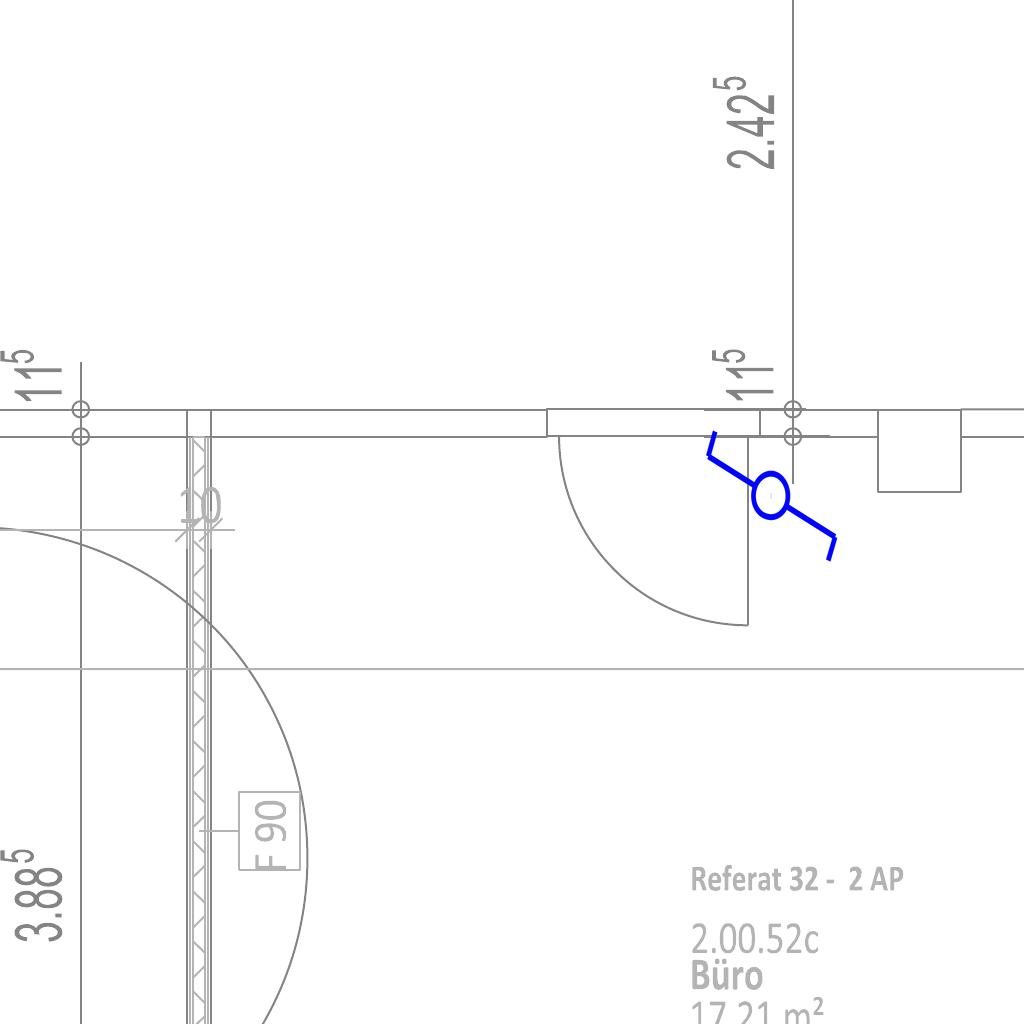Wechselschalter: (701, 409, 845, 566)
